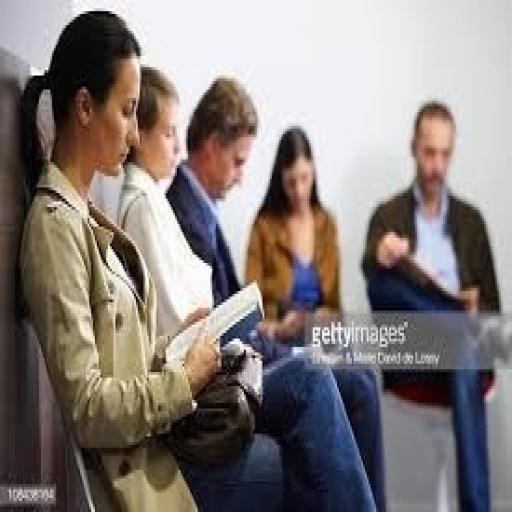sitting: (15, 6, 385, 509), (360, 98, 504, 509)
